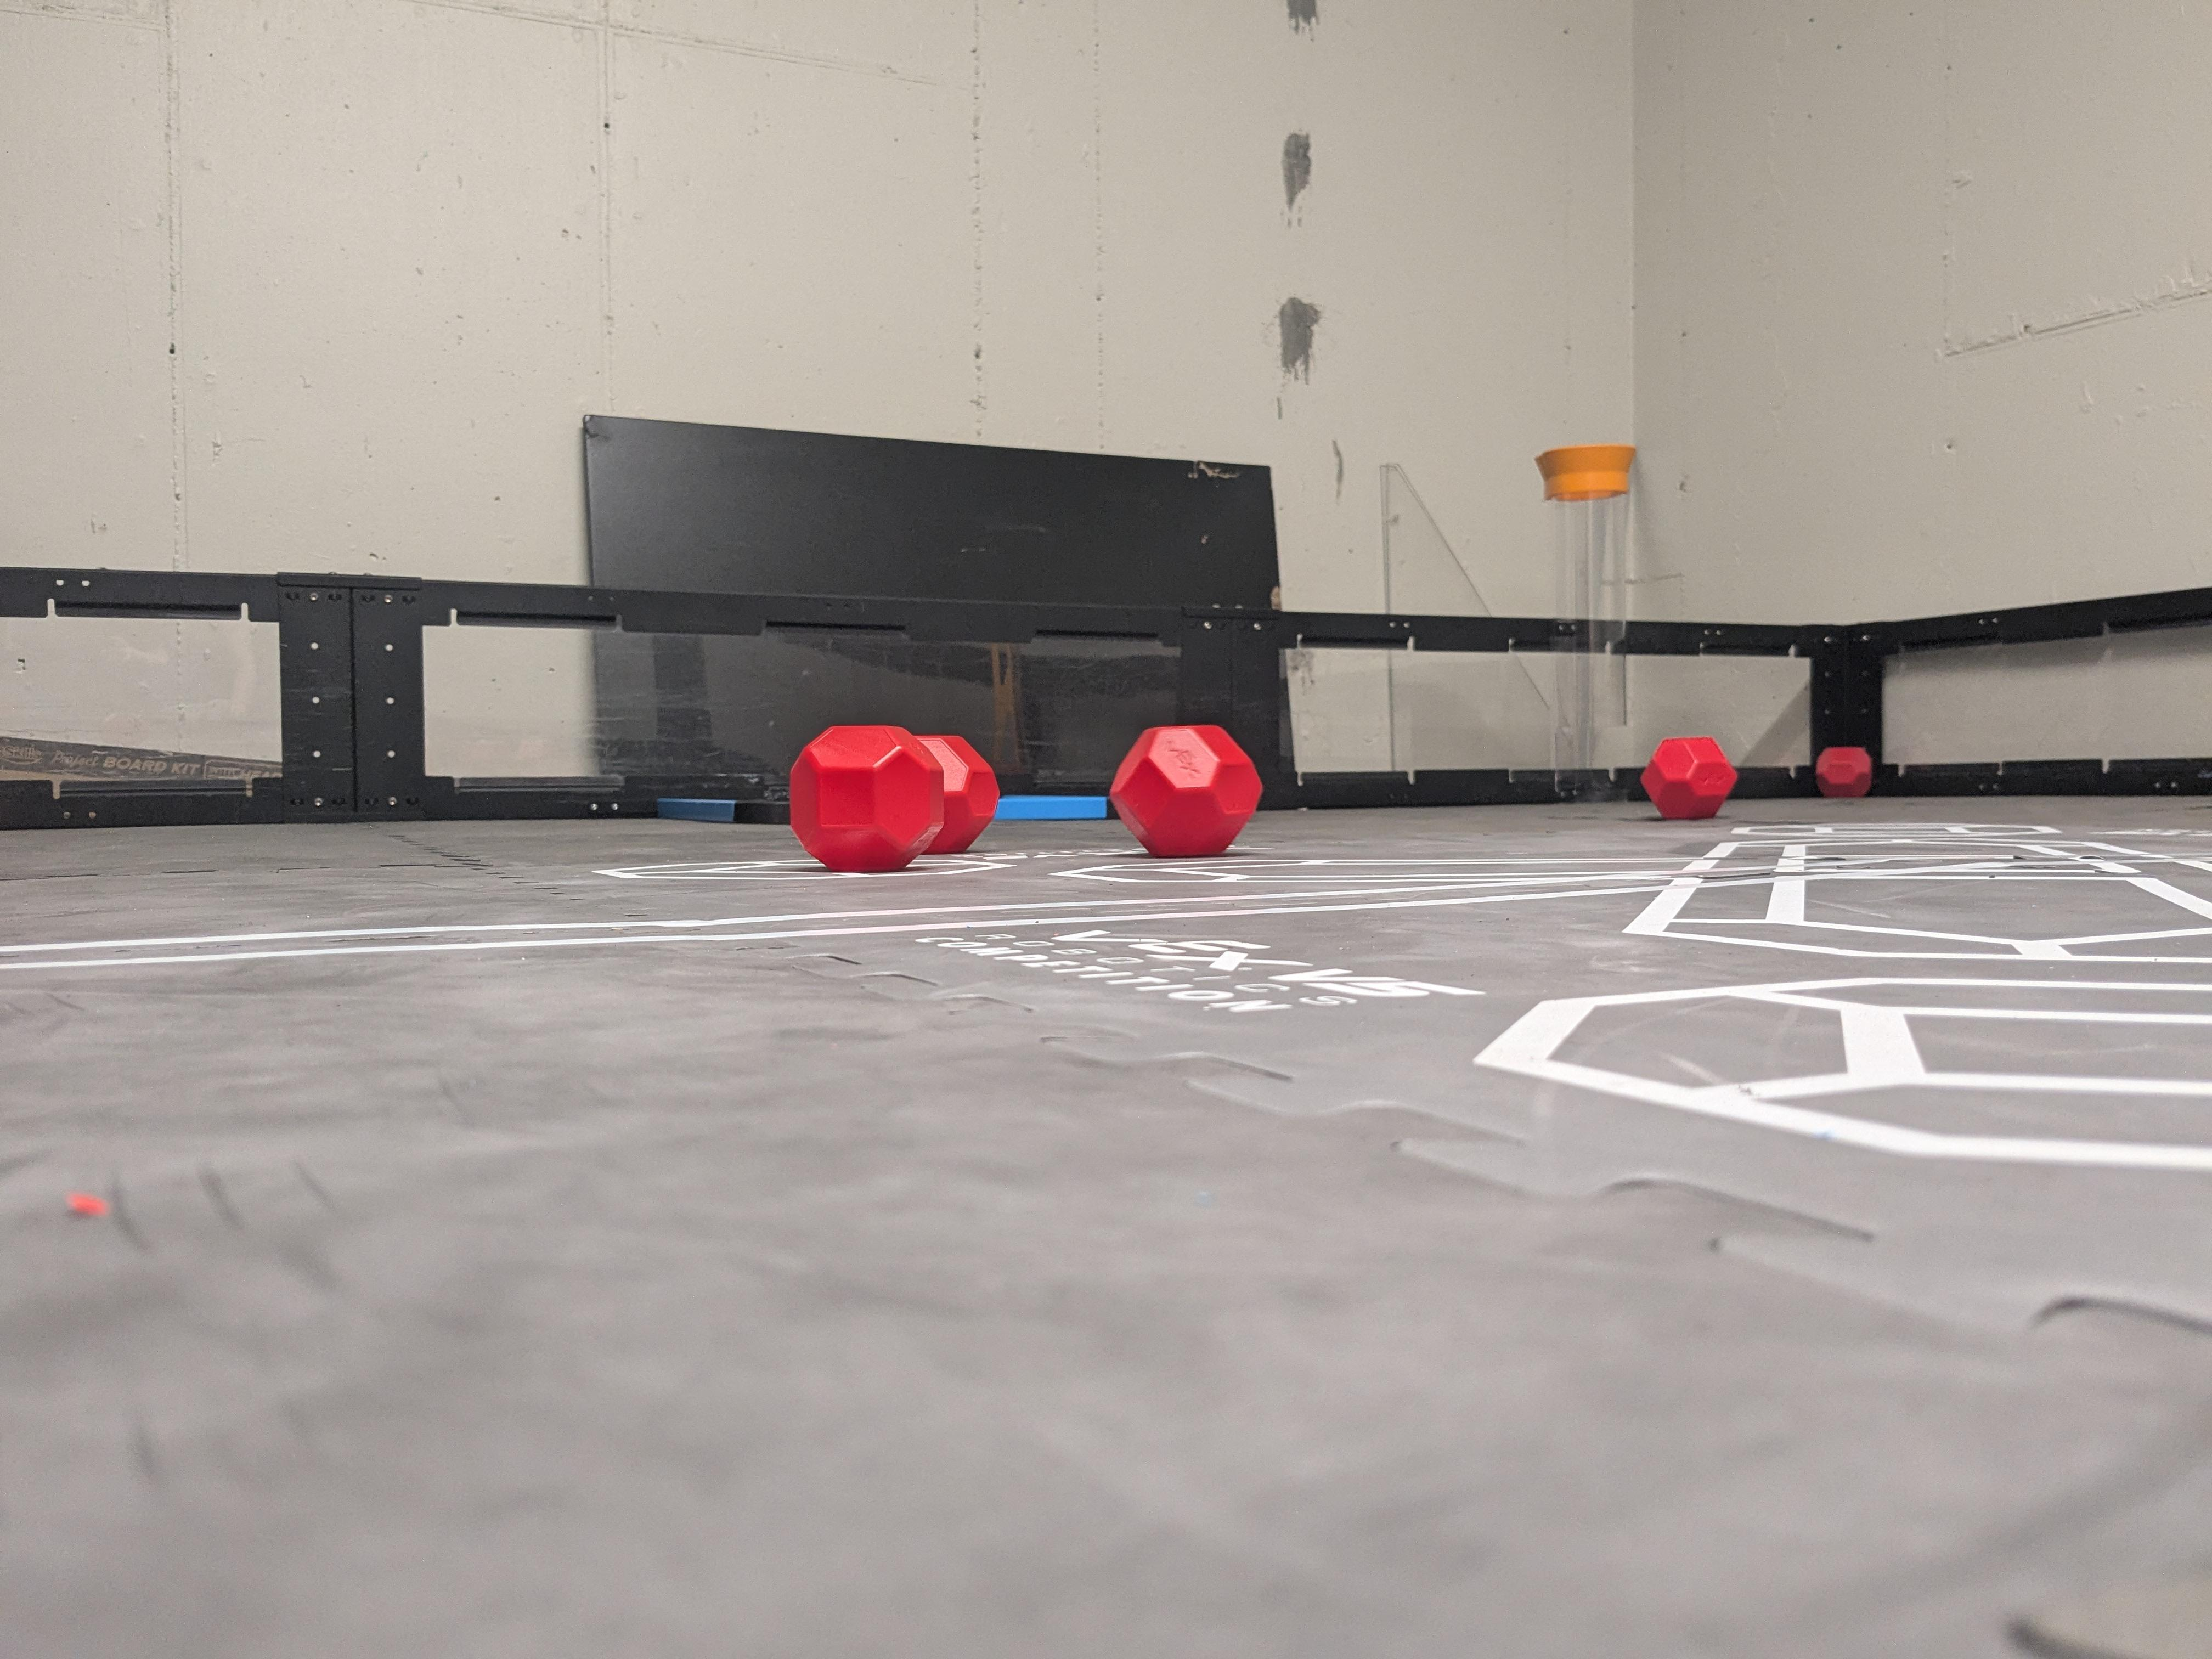Vex-Pieces-RED: (791, 725, 944, 871), (1113, 725, 1258, 857), (918, 735, 1000, 854), (1641, 735, 1738, 819), (1815, 746, 1872, 798)
